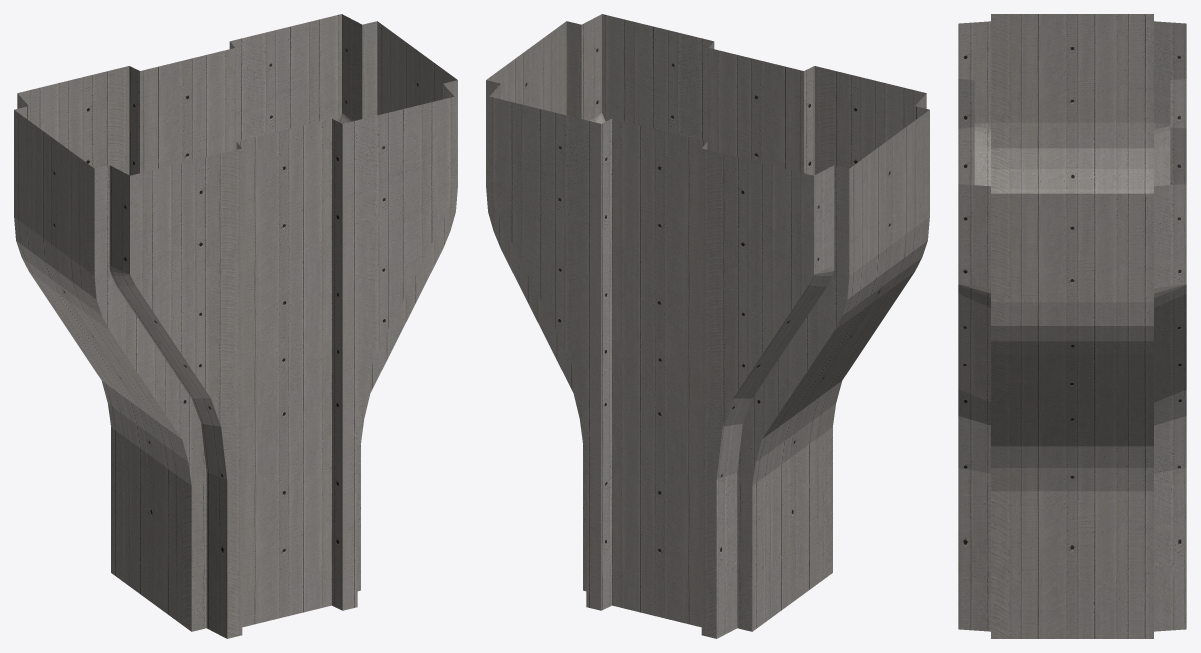
The model's file is Support_top.fbx.
3 renders of one model, left to right at view 1: azimuth 30°, elevation 25°; view 2: azimuth 150°, elevation 25°; view 3: azimuth 270°, elevation 25°, orthographic.
Visible parts, largest first — view 1: Empty_Mesh; view 2: Empty_Mesh; view 3: Empty_Mesh.
Part boxes in pixels (x1,y1,x2,y2): Empty_Mesh: [14, 14, 457, 638]; Empty_Mesh: [486, 14, 929, 638]; Empty_Mesh: [958, 14, 1186, 638].
Size of the model in its own units: 7.81 by 10 by 4.2.
